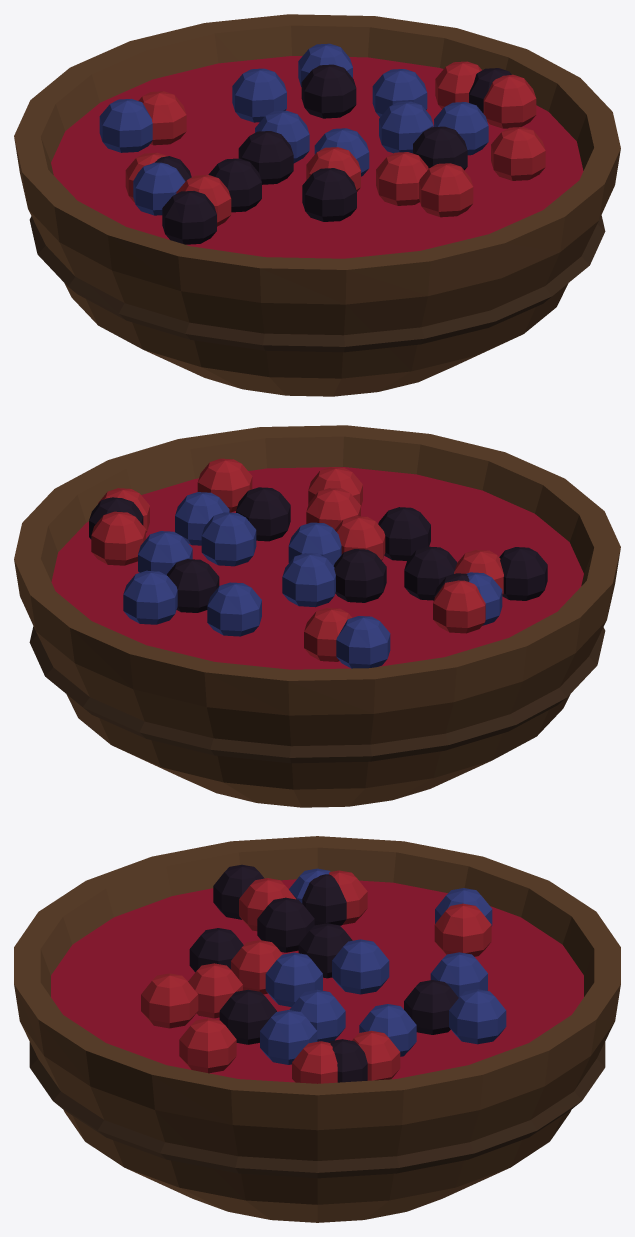
The model's file is VFP_Food_BerryMash.obj.
3 views of the same model, one above another, from view 1: azimuth 30°, elevation 25°; view 2: azimuth 150°, elevation 25°; view 3: azimuth 270°, elevation 25° (orthographic).
Visible parts, largest first — view 1: Bowl, Fill, Berries_blue, Berries, Berries_black_berry, Bowl_wood_dark; view 2: Bowl, Fill, Berries_blue, Berries, Berries_black_berry, Bowl_wood_dark; view 3: Bowl, Fill, Berries, Berries_blue, Berries_black_berry, Bowl_wood_dark.
Boxes of the visible parts, left/top/right/bottom form: Bowl: left=14, top=14, right=620, bottom=396; Fill: left=51, top=56, right=583, bottom=258; Berries_blue: left=99, top=43, right=488, bottom=215; Berries: left=125, top=61, right=545, bottom=226; Berries_black_berry: left=155, top=64, right=511, bottom=244; Bowl_wood_dark: left=29, top=215, right=605, bottom=352; Bowl: left=14, top=425, right=620, bottom=807; Fill: left=51, top=467, right=583, bottom=669; Berries_blue: left=123, top=492, right=502, bottom=668; Berries: left=91, top=458, right=503, bottom=661; Berries_black_berry: left=89, top=487, right=547, bottom=612; Bowl_wood_dark: left=29, top=626, right=605, bottom=763; Bowl: left=14, top=836, right=620, bottom=1222; Fill: left=51, top=879, right=583, bottom=1082; Berries: left=141, top=870, right=491, bottom=1083; Berries_blue: left=260, top=868, right=506, bottom=1064; Berries_black_berry: left=189, top=864, right=458, bottom=1082; Bowl_wood_dark: left=29, top=1042, right=605, bottom=1178.
Bounding box in the file's own units: 0.3264 × 0.1202 × 0.323.
